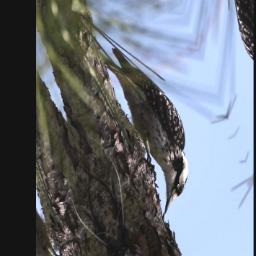Woodpecker: (92, 8, 211, 230)
